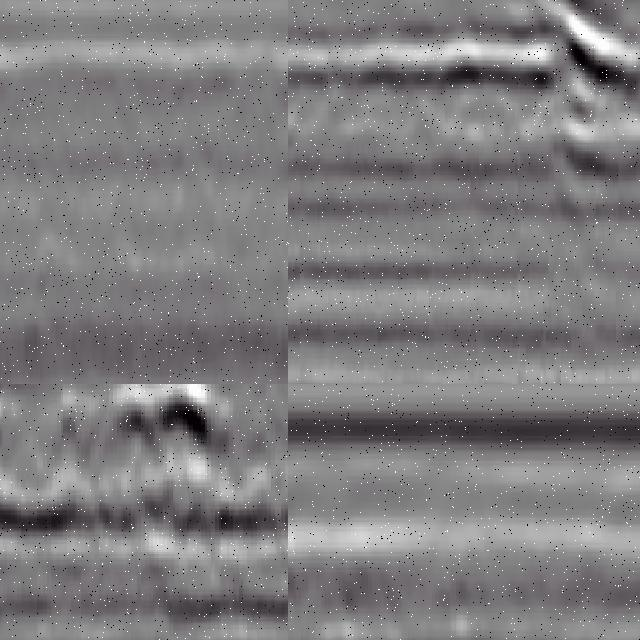crack: (430, 1, 640, 169)
loose: (112, 385, 219, 539)
